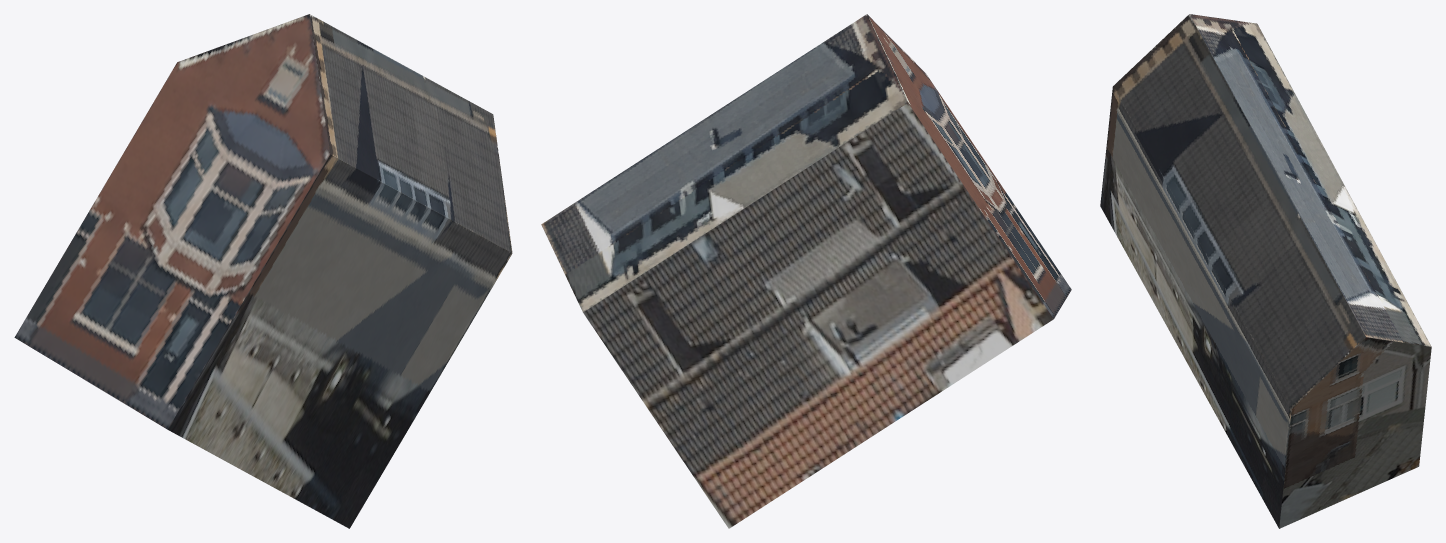
The picture shows the model from 3 angles, left to right: view 1: azimuth 30°, elevation 25°; view 2: azimuth 150°, elevation 25°; view 3: azimuth 270°, elevation 25°; orthographic projection. The views are drawn at different scales.
Parts seen in each view (by area): view 1: BAG_0599100000656926 (×2); view 2: BAG_0599100000656926 (×2); view 3: BAG_0599100000656926 (×3).
Boxes of the visible parts, x1,y1,x2,y2 form: BAG_0599100000656926 (×2): [14, 14, 512, 528]; BAG_0599100000656926 (×2): [541, 14, 1071, 528]; BAG_0599100000656926 (×3): [1100, 14, 1431, 528].
Size of the model in its own units: 15.02 by 15.01 by 9.46.
Materials: 1 (1 with a texture image).
